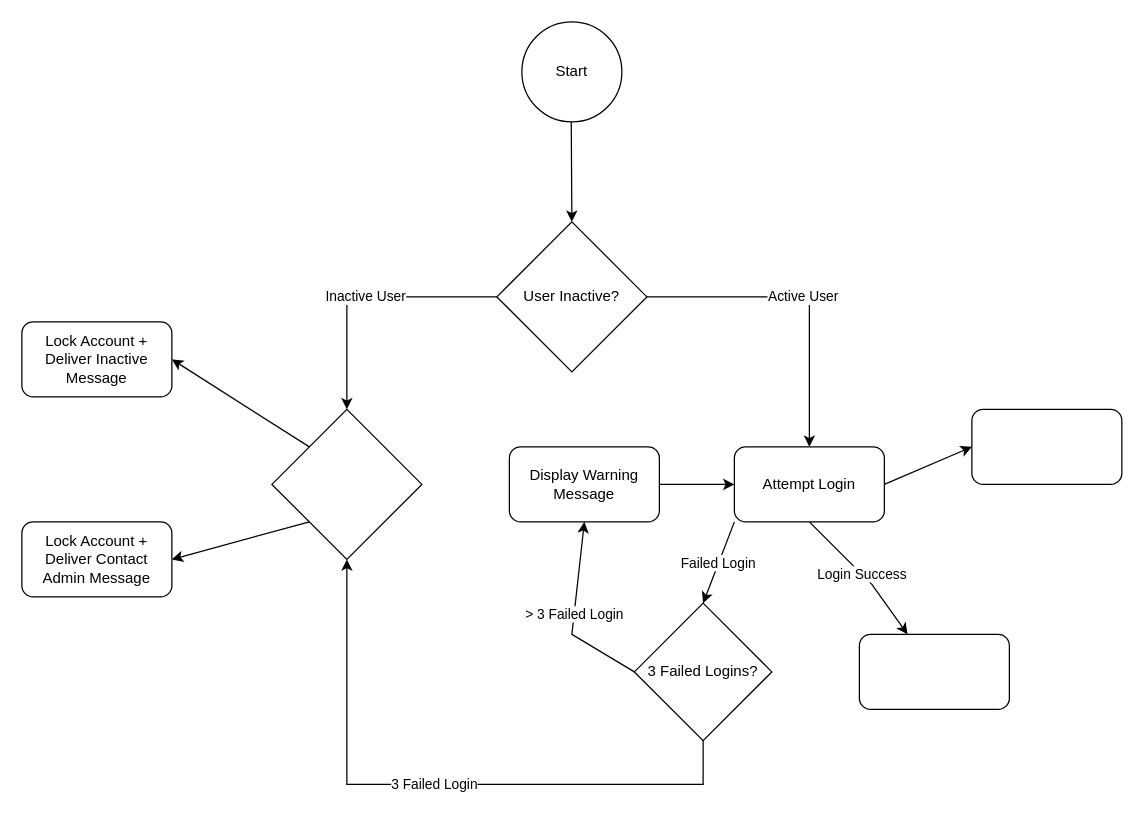
Some shapes in this 1144 by 816 pixel diagram are drawn without their labels. Here are the shapes that lost their labels. From the top down, the box of each, then its label:
(971, 408, 1122, 484): Reset Password
(271, 408, 422, 559): User Inactive or too many Failed Logins?
(858, 633, 1009, 709): Logged In
